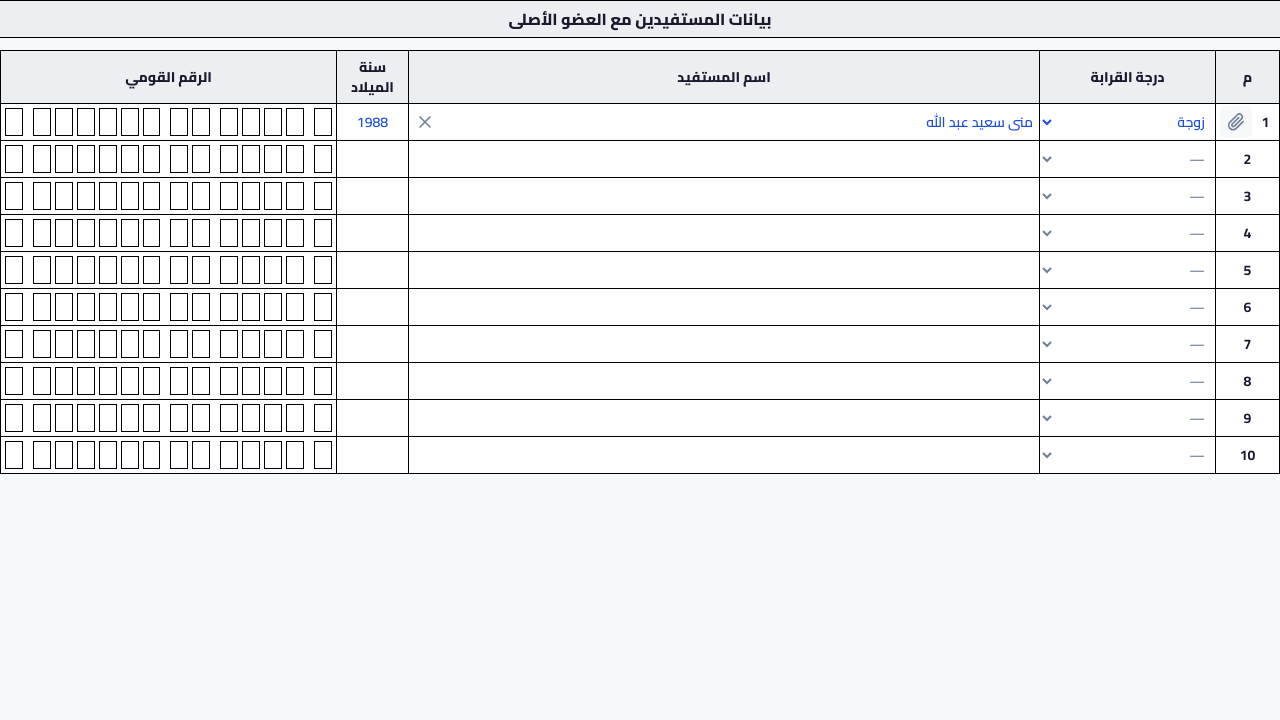
BeneficiaryTable (PROMPT.md §9.5) › opens the DocumentModal for that beneficiary with the server's slots
Click the button named "مستندات المستفيد رقم 1" at (1236, 122), box [1220,106,1252,138]
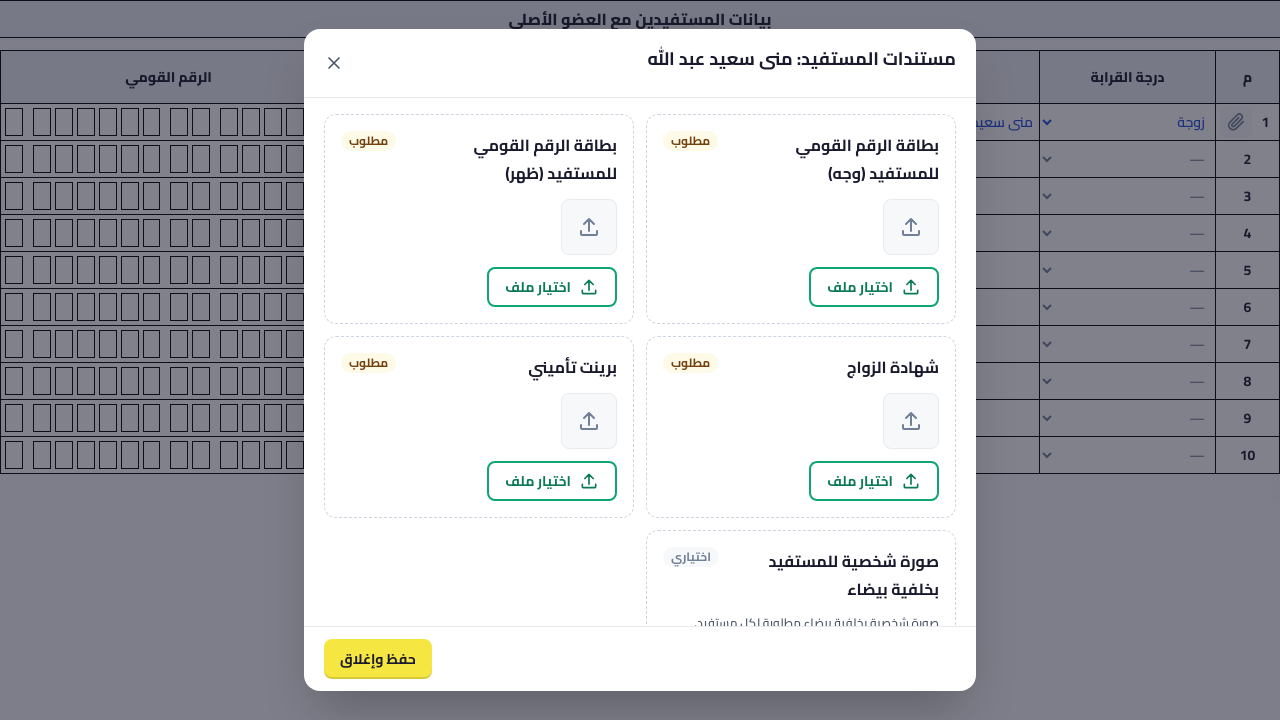
Expected: the text "شهادة الزواج" is shown, [847,352,939,382]
Press Escape
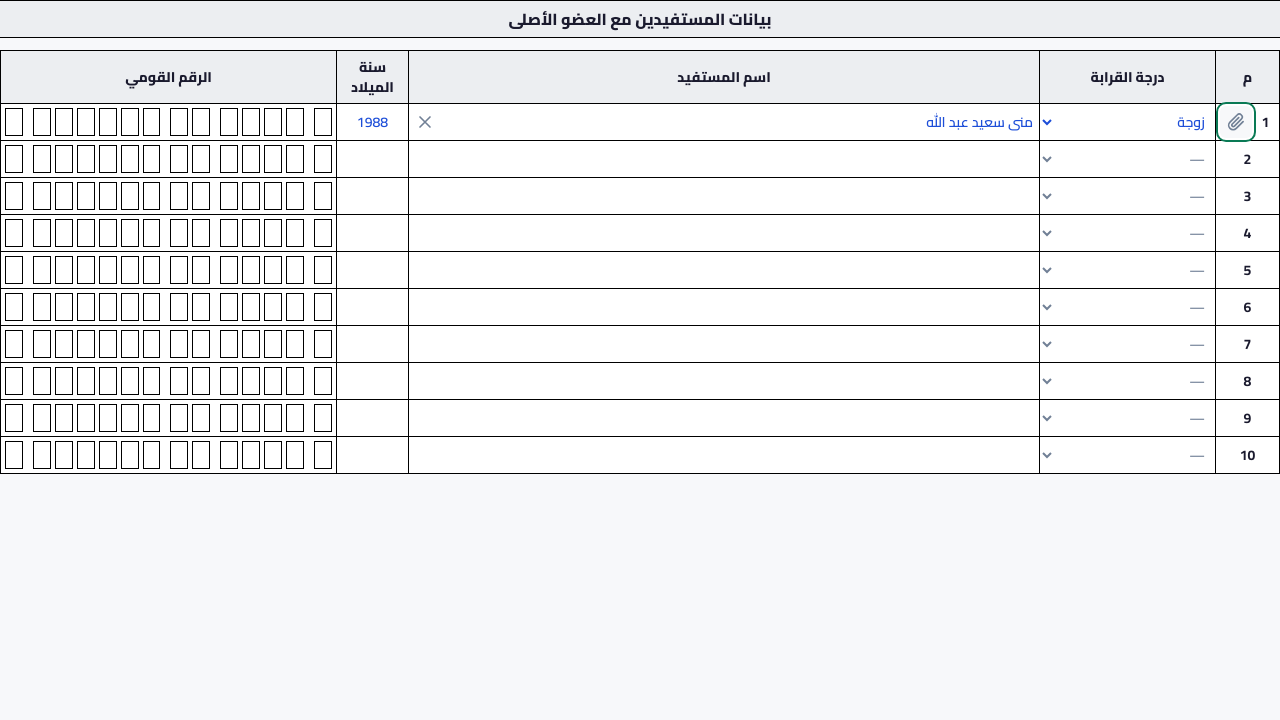
Expected: the dialog is gone
